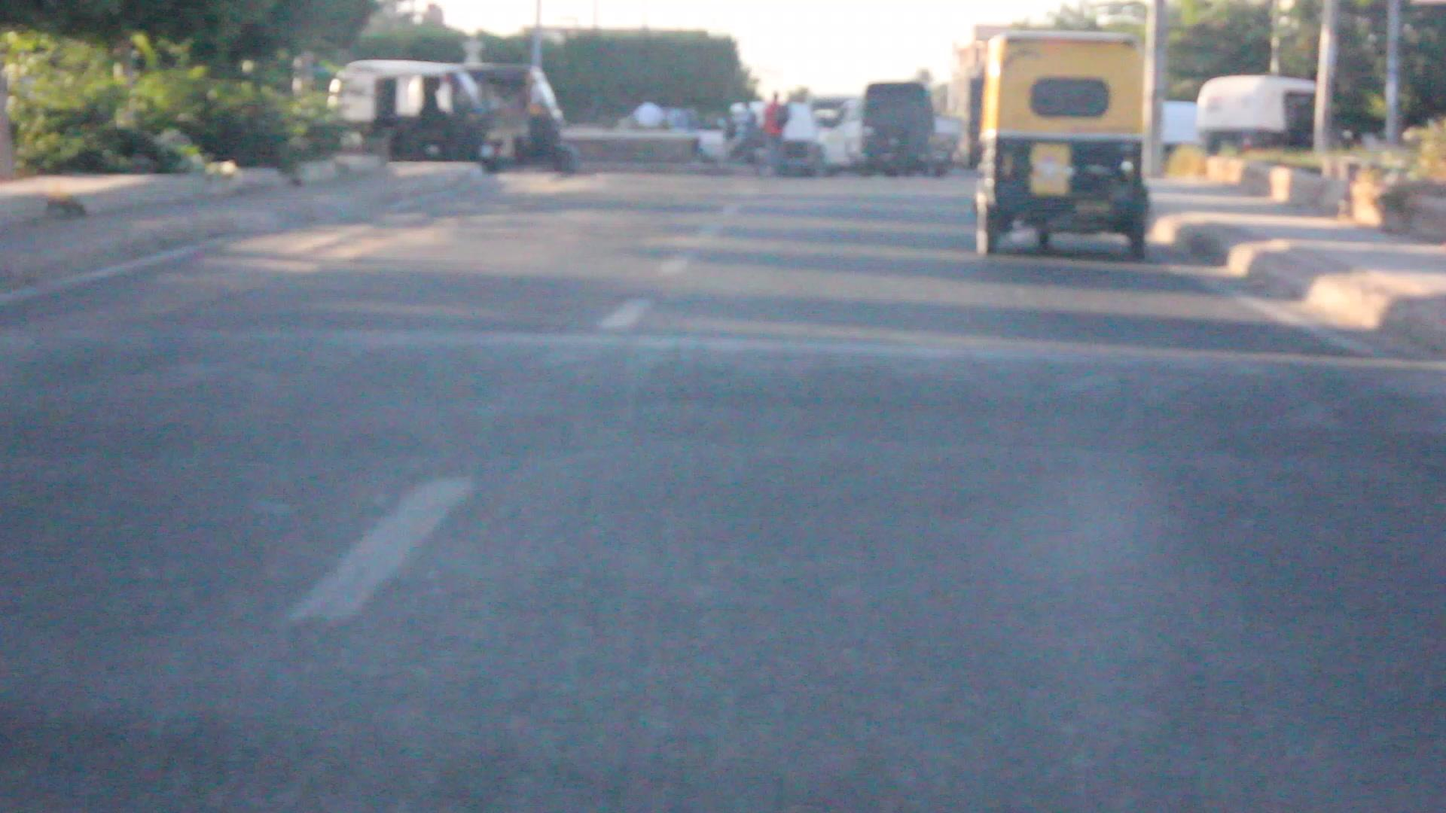Bump: (98, 320, 1408, 461)
